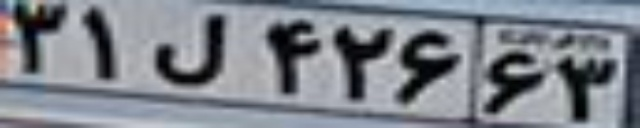1: (79, 7, 117, 79)
2: (331, 24, 390, 101)
3: (555, 55, 617, 122), (9, 3, 61, 73)
4: (264, 20, 319, 94)
6: (393, 30, 459, 103), (482, 50, 545, 115)
lam: (151, 13, 229, 86)
